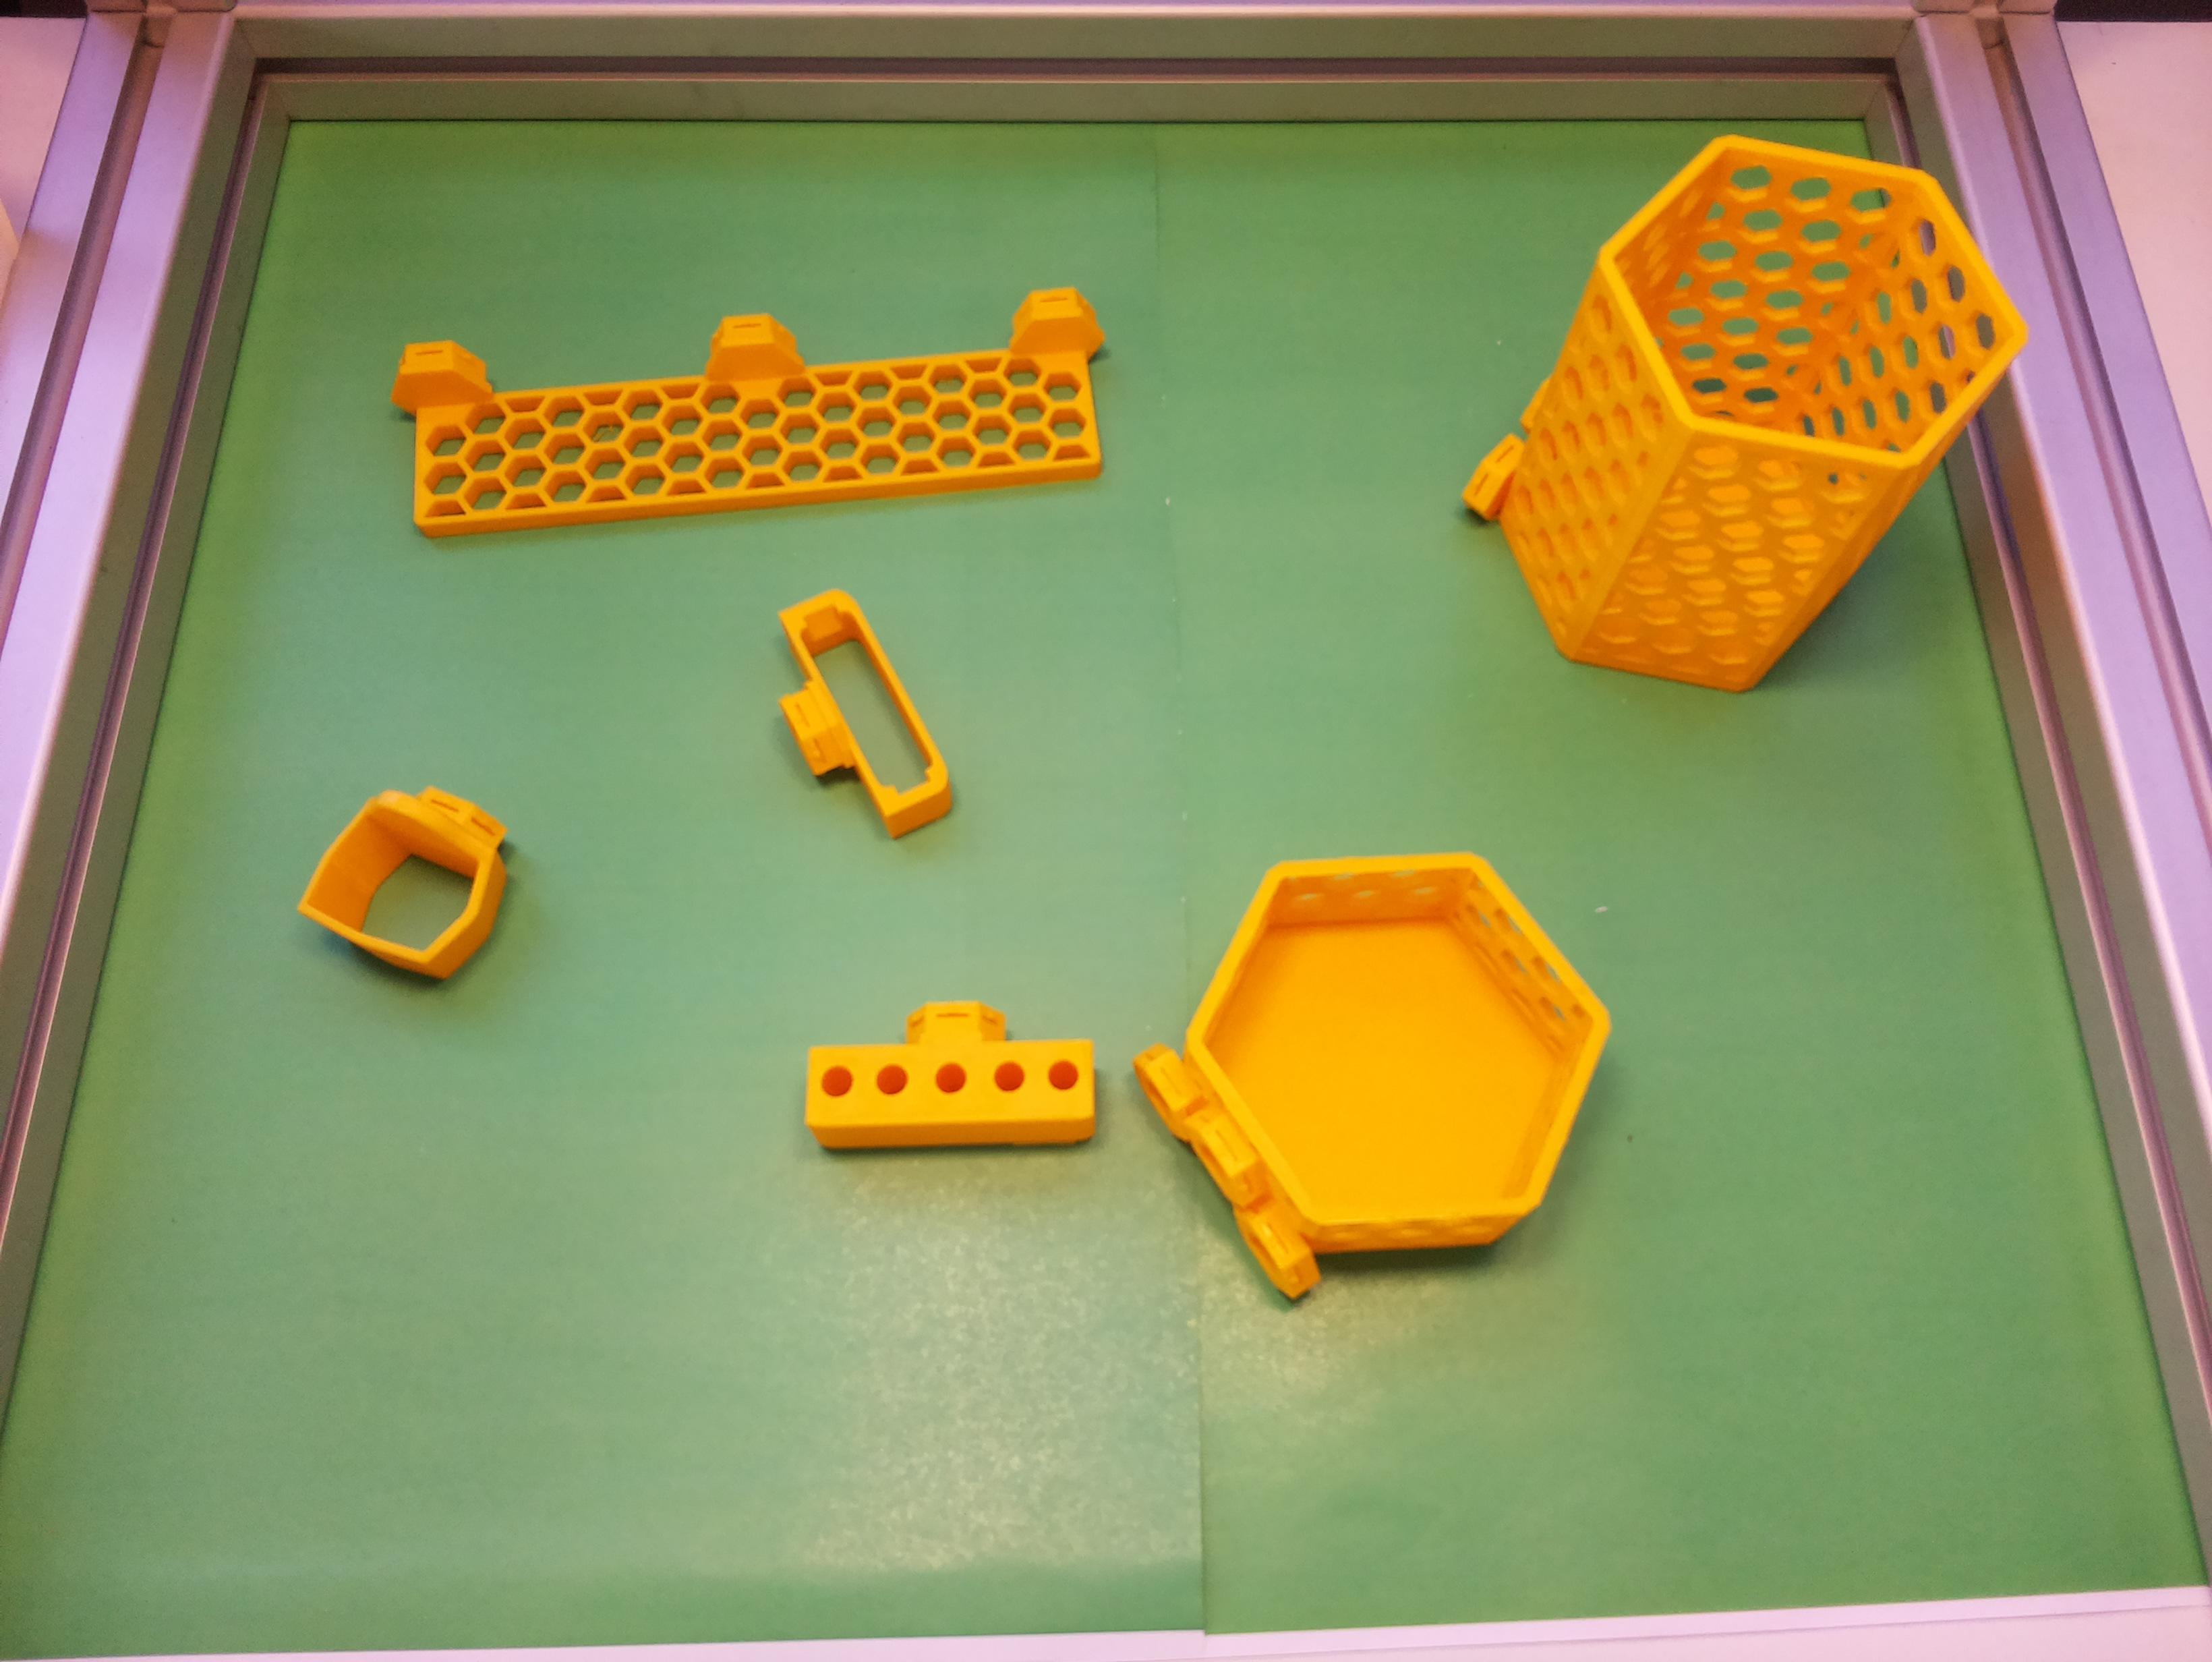bit_holder: (805, 1000, 1095, 1149)
bottle_holder: (1070, 761, 1676, 1365)
cup_holder: (1390, 45, 2076, 763)
cutter_holder: (737, 578, 967, 861)
scissor_holder: (293, 752, 541, 1000)
tool_holder: (388, 281, 1117, 539)
